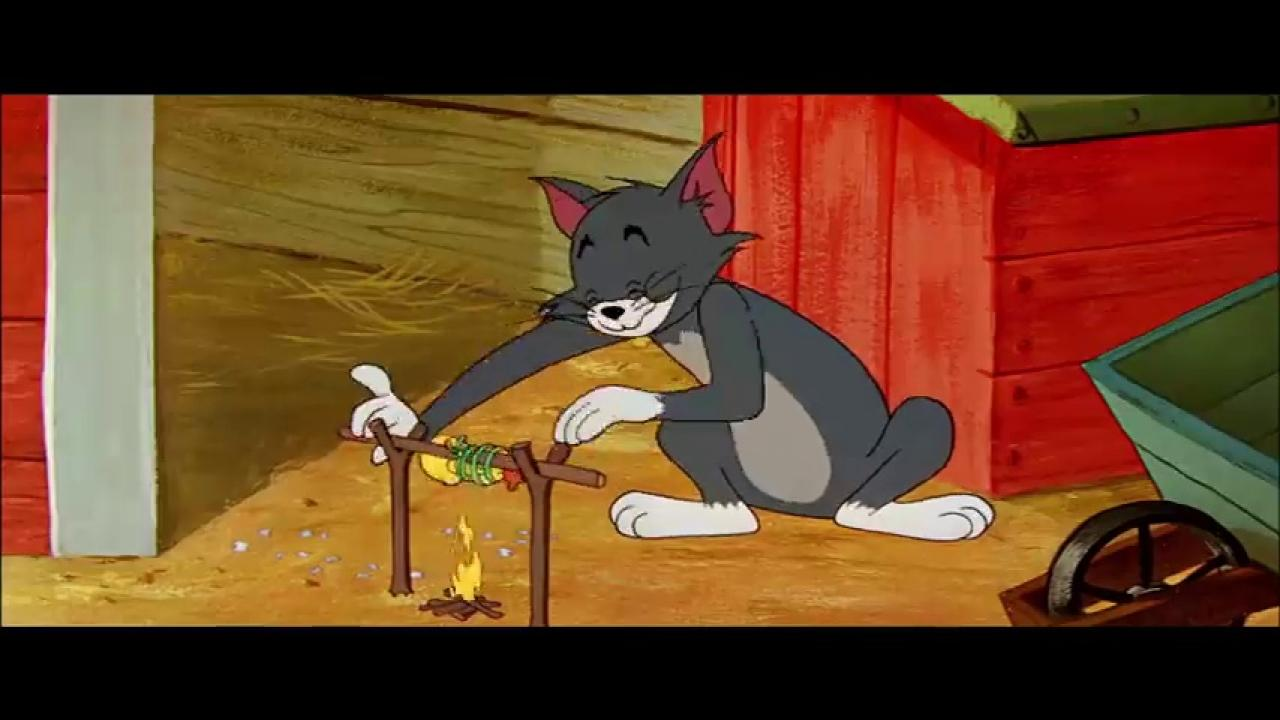Tom: (346, 130, 996, 544)
